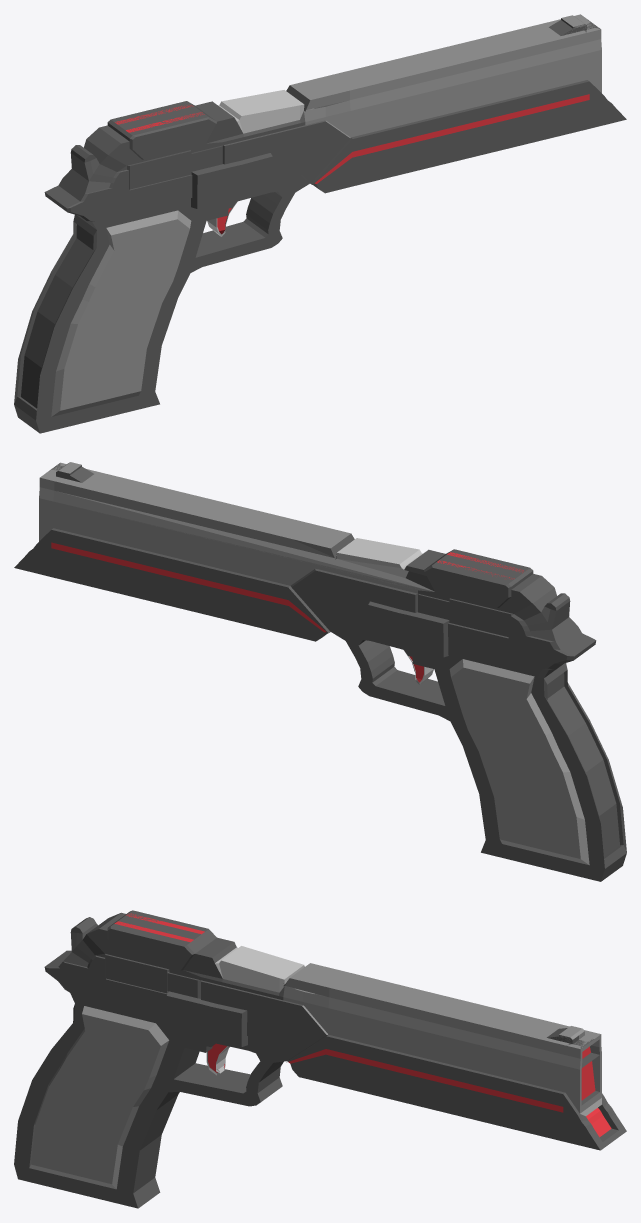
File: Cybergun_Red.fbx
3 renders of one model, top to bottom at view 1: azimuth 30°, elevation 25°; view 2: azimuth 150°, elevation 25°; view 3: azimuth 330°, elevation 25°, orthographic.
Visible parts, largest first — view 1: Cube; view 2: Cube; view 3: Cube.
Part boxes in pixels (left/top/right/bottom): Cube: left=14, top=14, right=626, bottom=433; Cube: left=14, top=462, right=626, bottom=881; Cube: left=14, top=910, right=626, bottom=1208.
Bounding box in the file's own units: 610 × 273 × 55.53.
